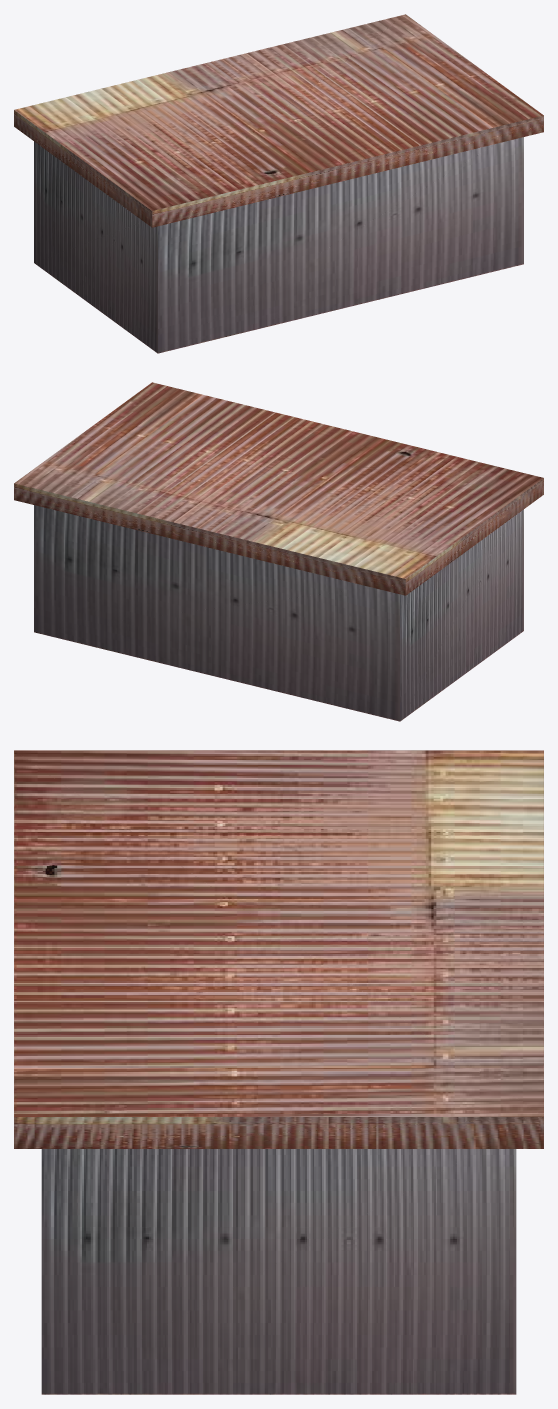
File: souko.FBX
3 renders of one model, top to bottom at view 1: azimuth 30°, elevation 25°; view 2: azimuth 150°, elevation 25°; view 3: azimuth 270°, elevation 25°, orthographic. The views are drawn at different scales.
Parts seen in each view (by area): view 1: Box002, Box001; view 2: Box002, Box001; view 3: Box002, Box001.
Boxes of the visible parts, x1,y1,x2,y2 form: Box002: (14, 14, 543, 227); Box001: (34, 137, 523, 353); Box002: (14, 382, 543, 595); Box001: (34, 505, 523, 721); Box002: (14, 750, 543, 1148); Box001: (41, 1149, 516, 1394).
Size of the model in its own units: 855 by 522 by 315.
